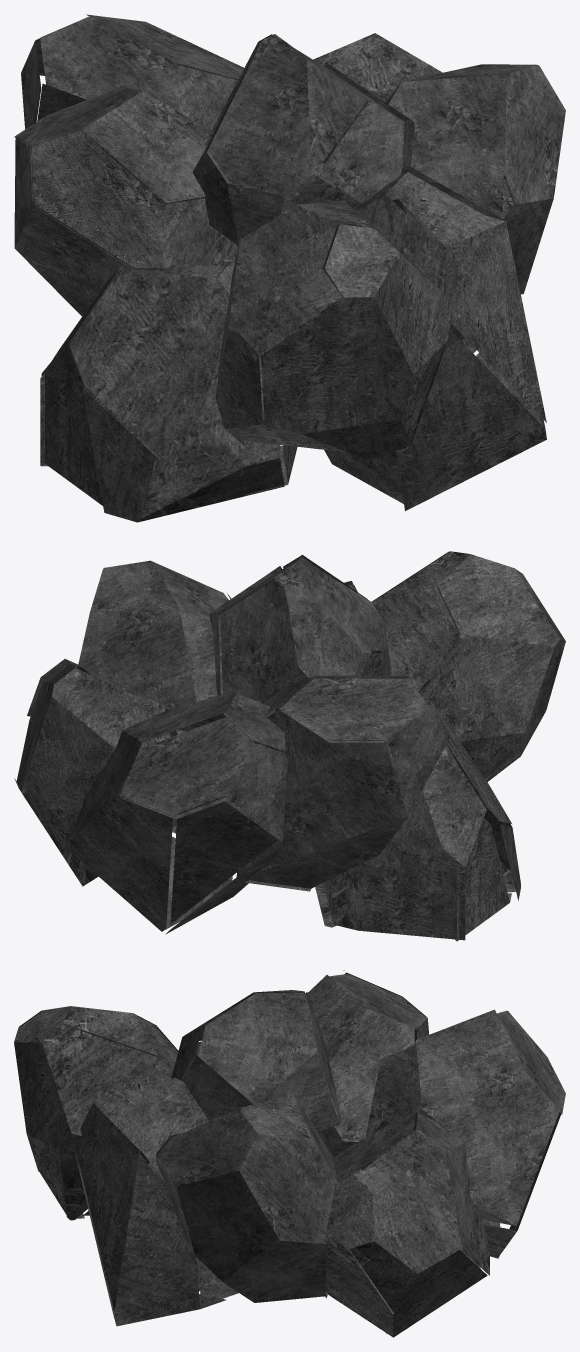
File: Stone3.obj
The picture shows the model from 3 angles, top to bottom: view 1: azimuth 30°, elevation 25°; view 2: azimuth 150°, elevation 25°; view 3: azimuth 270°, elevation 25°; orthographic projection. The views are drawn at different scales.
Parts seen in each view (by area): view 1: Object015; view 2: Object015; view 3: Object015.
Part boxes in pixels (left/top/right/bottom): Object015: left=14, top=14, right=565, bottom=522; Object015: left=14, top=551, right=565, bottom=941; Object015: left=14, top=970, right=565, bottom=1337.
Bounding box in the file's own units: 167 × 130 × 212.
Materials: 1 (1 with a texture image).
